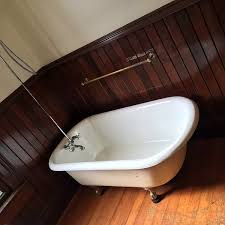bathub: (48, 95, 209, 205)
